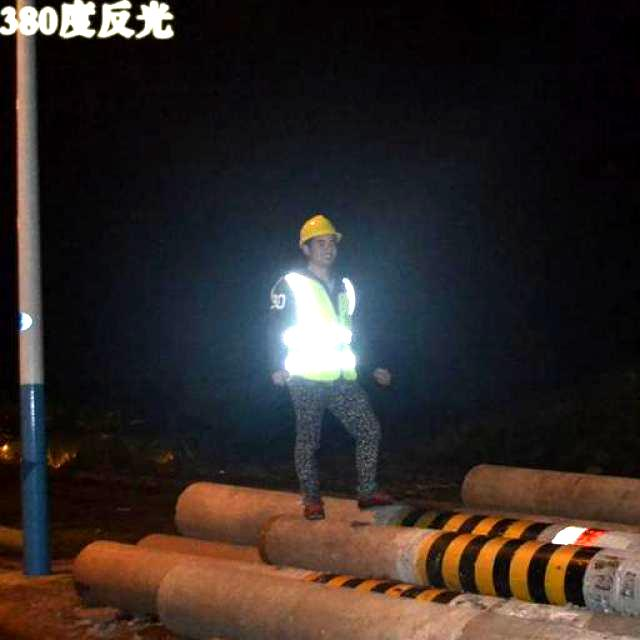hard_hat: (300, 214, 340, 249)
person: (265, 215, 393, 519)
